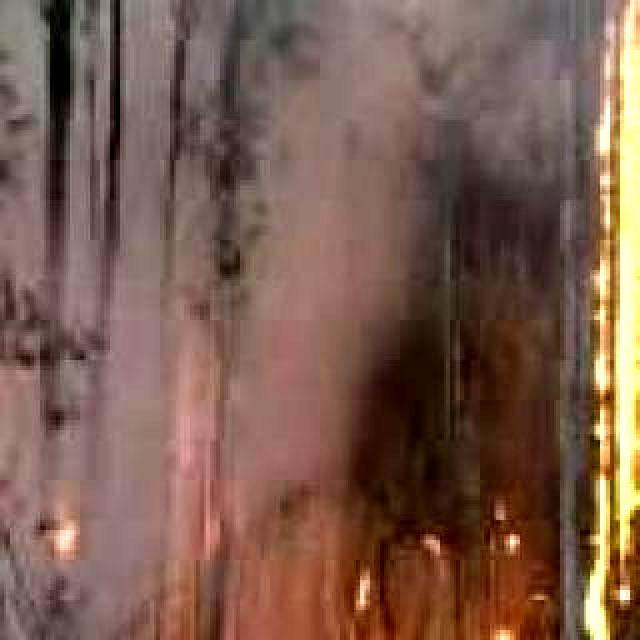fire: (594, 0, 640, 640), (324, 558, 550, 640)
